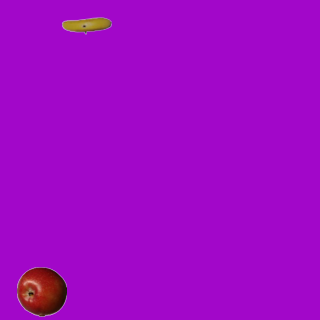Apple Braeburn: (16, 266, 66, 316)
Banana: (61, 0, 111, 50)
